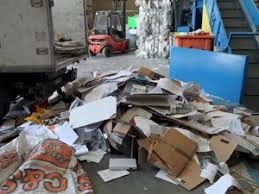paper: (138, 125, 198, 178), (64, 92, 120, 129), (205, 133, 238, 168), (124, 90, 175, 111), (201, 172, 243, 194), (104, 155, 139, 171), (111, 120, 131, 139)
